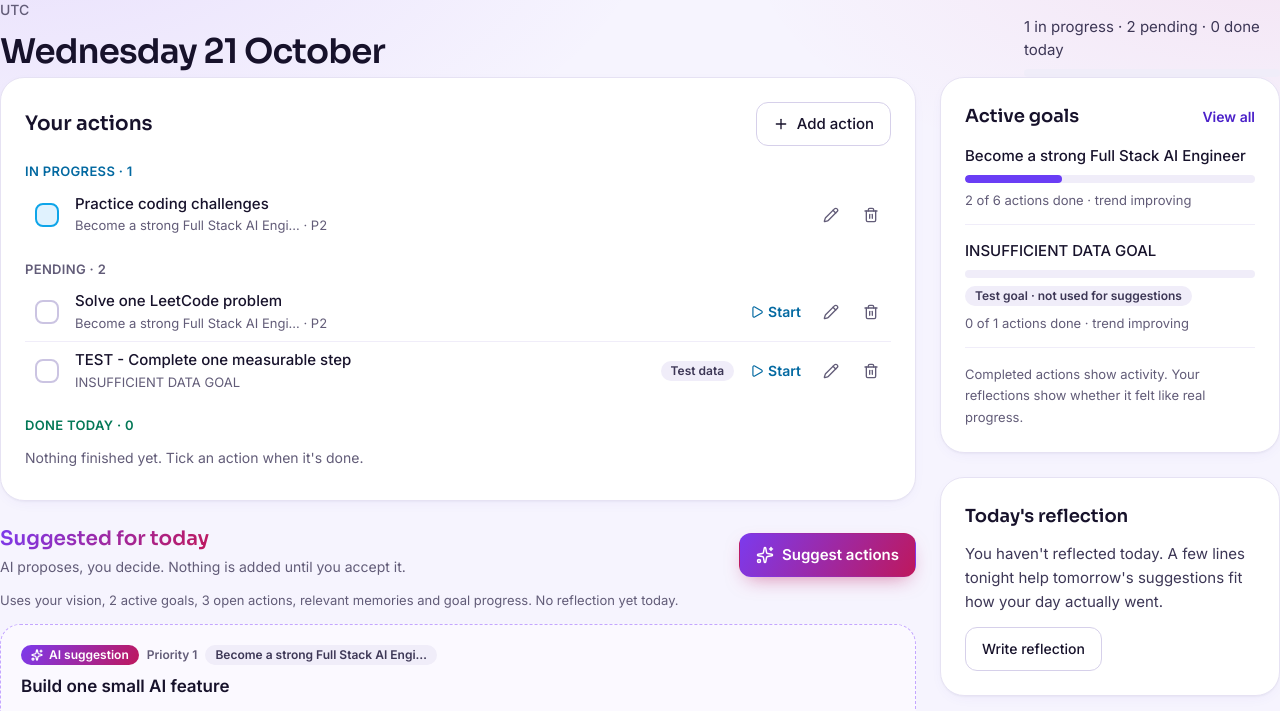
Scenario: Today › explains when the AI planner is offline
This screenshot has width=1280, height=711.
Click the button "Suggest actions": (828, 555) [739, 533, 916, 577]
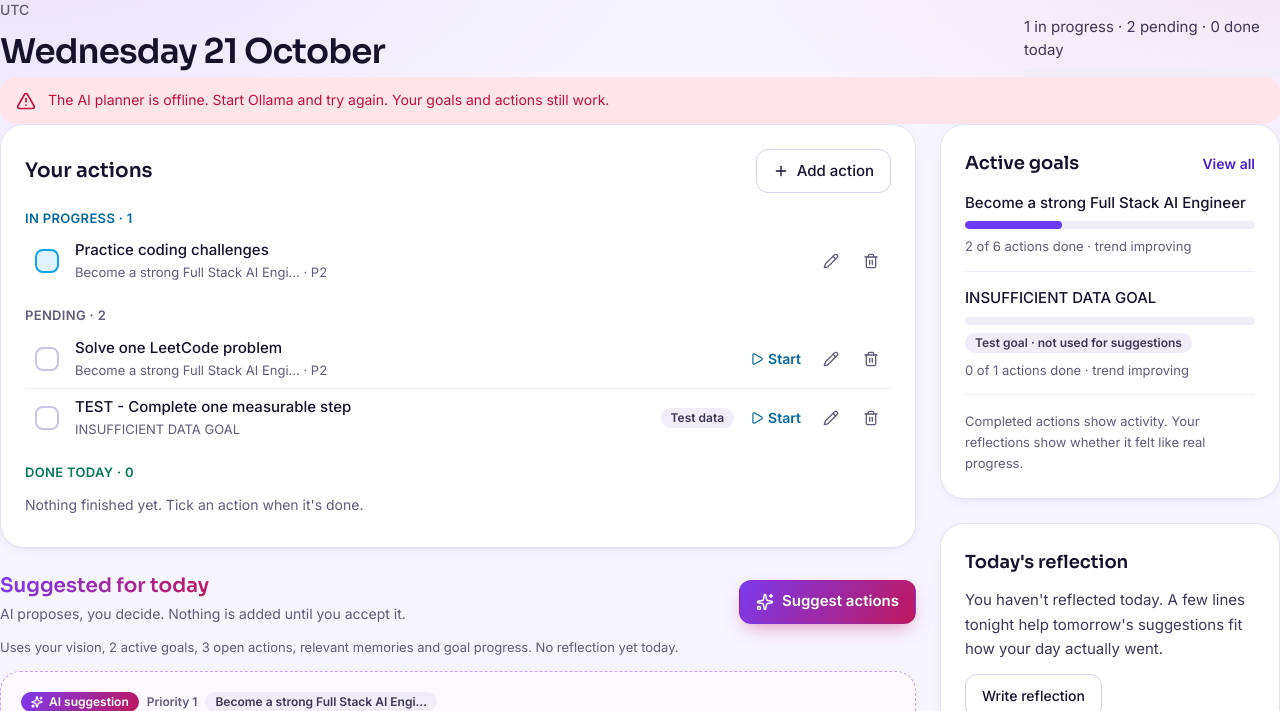
Expected: the message shows "Start Ollama", [48, 91, 609, 108]
